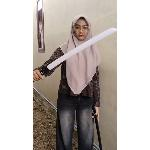Pedang: (33, 26, 117, 78)
